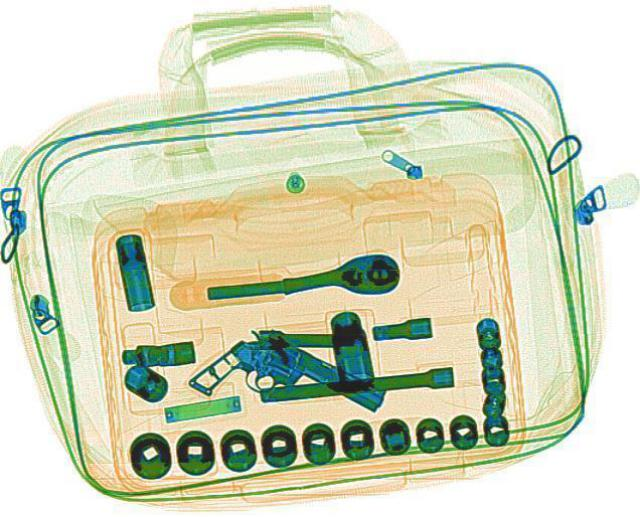Gun: (183, 316, 391, 458)
